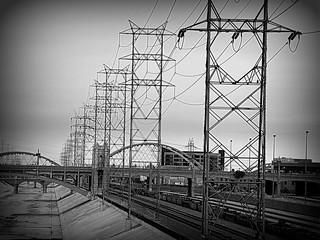power_tower: (176, 0, 299, 240), (118, 13, 181, 226)
